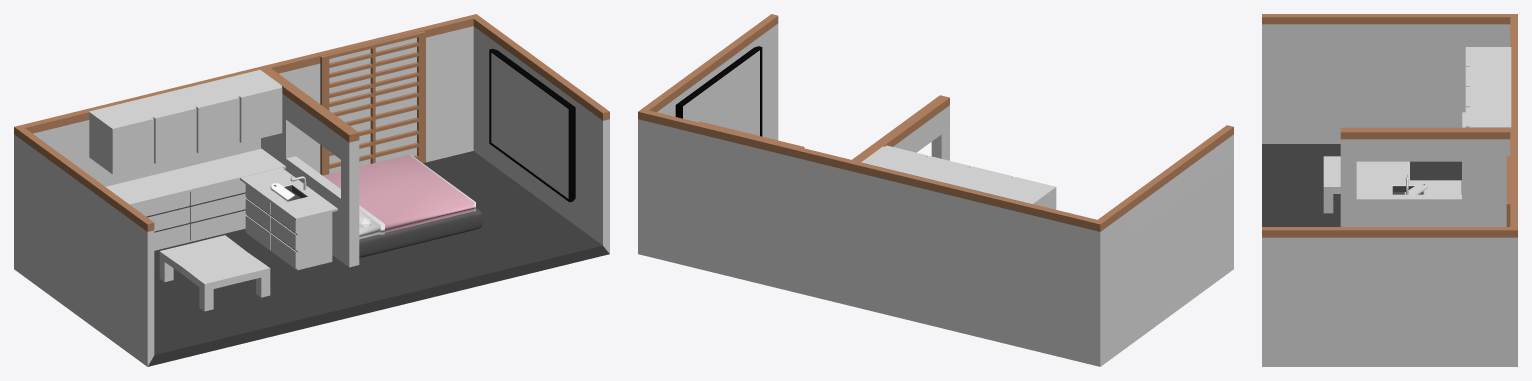
Rendered from isolong20.08.20.fbx.
The picture shows the model from 3 angles, left to right: view 1: azimuth 30°, elevation 25°; view 2: azimuth 150°, elevation 25°; view 3: azimuth 270°, elevation 25°; orthographic projection. The views are drawn at different scales.
Parts seen in each view (by area): view 1: Cube, Cube.003, Cube.007, Cube.002, Cube.012, Cube.001, Cube.009, Cube.004, Cube.010; view 2: Cube, Cube.012, Cube.003; view 3: Cube, Cube.003, Cube.004, Cube.001, Cube.007.
Part boxes in pixels (box(x1,y1,x2,y2)): Cube: box(14, 14, 609, 366); Cube.003: box(89, 70, 282, 174); Cube.007: box(320, 31, 425, 175); Cube.002: box(105, 148, 285, 250); Cube.012: box(489, 48, 575, 202); Cube.001: box(240, 167, 337, 270); Cube.009: box(323, 154, 475, 239); Cube.004: box(159, 235, 270, 311); Cube.010: box(359, 208, 482, 257); Cube: box(638, 14, 1233, 366); Cube.012: box(675, 46, 762, 136); Cube.003: box(861, 145, 1056, 209); Cube: box(1262, 14, 1517, 366); Cube.003: box(1465, 47, 1511, 127); Cube.004: box(1323, 156, 1409, 213); Cube.001: box(1356, 180, 1461, 194); Cube.007: box(1506, 155, 1510, 226).
Bounding box in the file's own units: 642 × 189 × 321.
